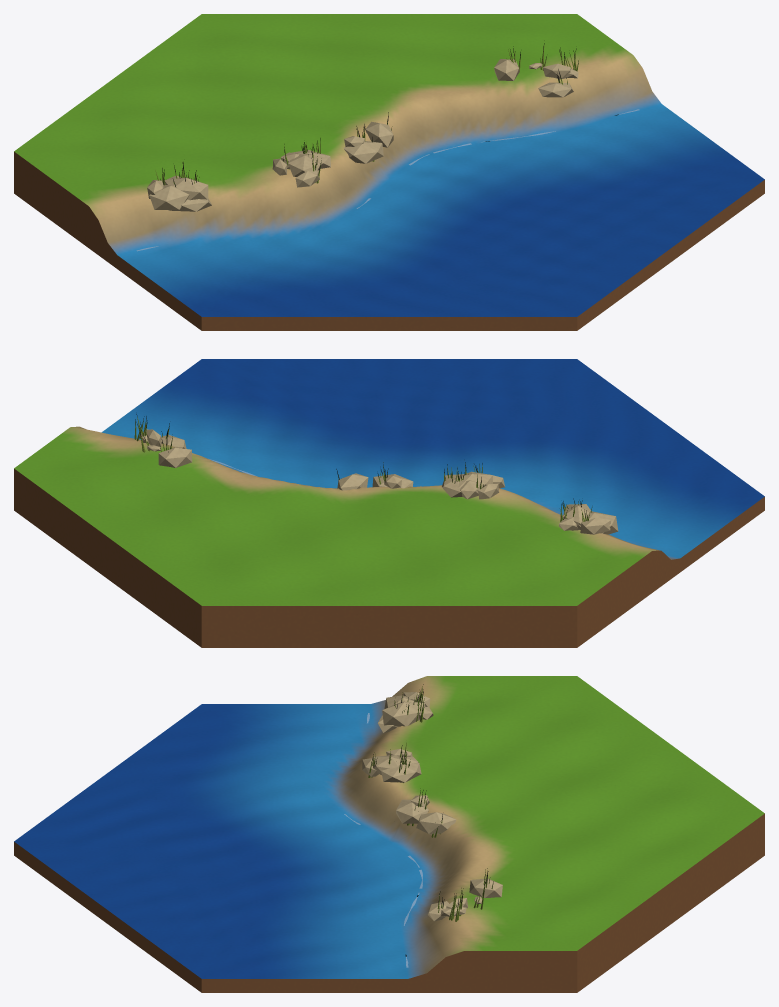
Rendered from SM_CostaNatural_A_LOD0.fbx.
3 views of the same model, one above another, from view 1: azimuth 30°, elevation 25°; view 2: azimuth 150°, elevation 25°; view 3: azimuth 270°, elevation 25° (orthographic).
Parts seen in each view (by area): view 1: SM_CostaNatural_A_LOD0; view 2: SM_CostaNatural_A_LOD0; view 3: SM_CostaNatural_A_LOD0.
Part boxes in pixels (x1,y1,x2,y2): SM_CostaNatural_A_LOD0: [14, 14, 764, 330]; SM_CostaNatural_A_LOD0: [14, 359, 764, 647]; SM_CostaNatural_A_LOD0: [14, 676, 764, 992].
Bounding box in the file's own units: 1.68 × 0.2019 × 1.94.
1 material, 1 textured.
